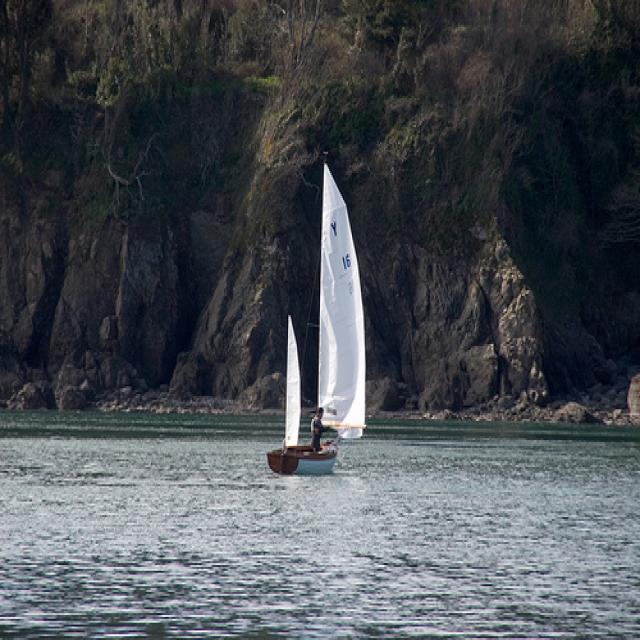Ship: (264, 156, 372, 475)
